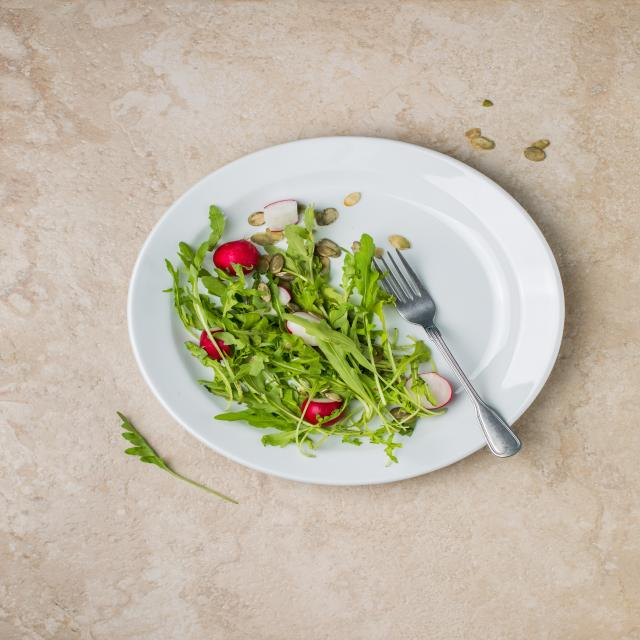Dish: (159, 152, 563, 485)
